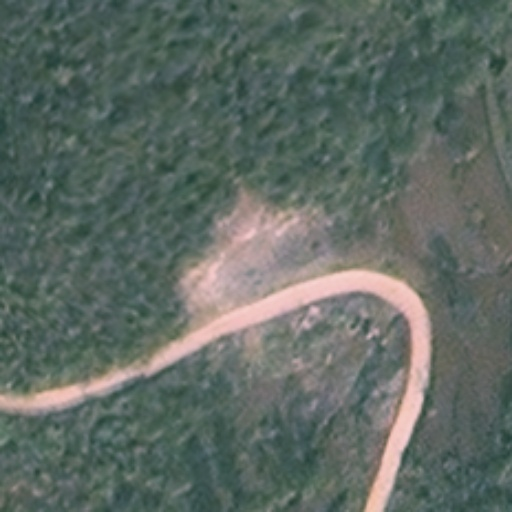landslide: (176, 193, 317, 318)
